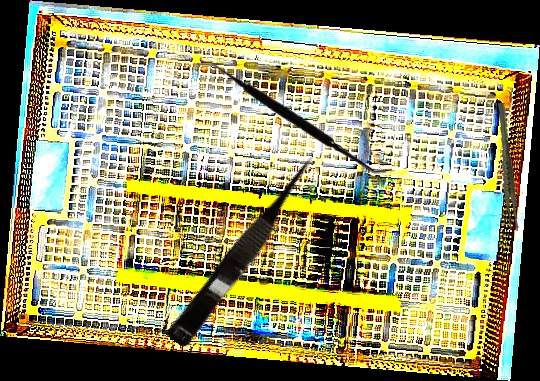Micro Scissor: (164, 150, 328, 352)
Spatula Surgical: (197, 60, 392, 174)
Tissue Forceps: (486, 102, 530, 232)
